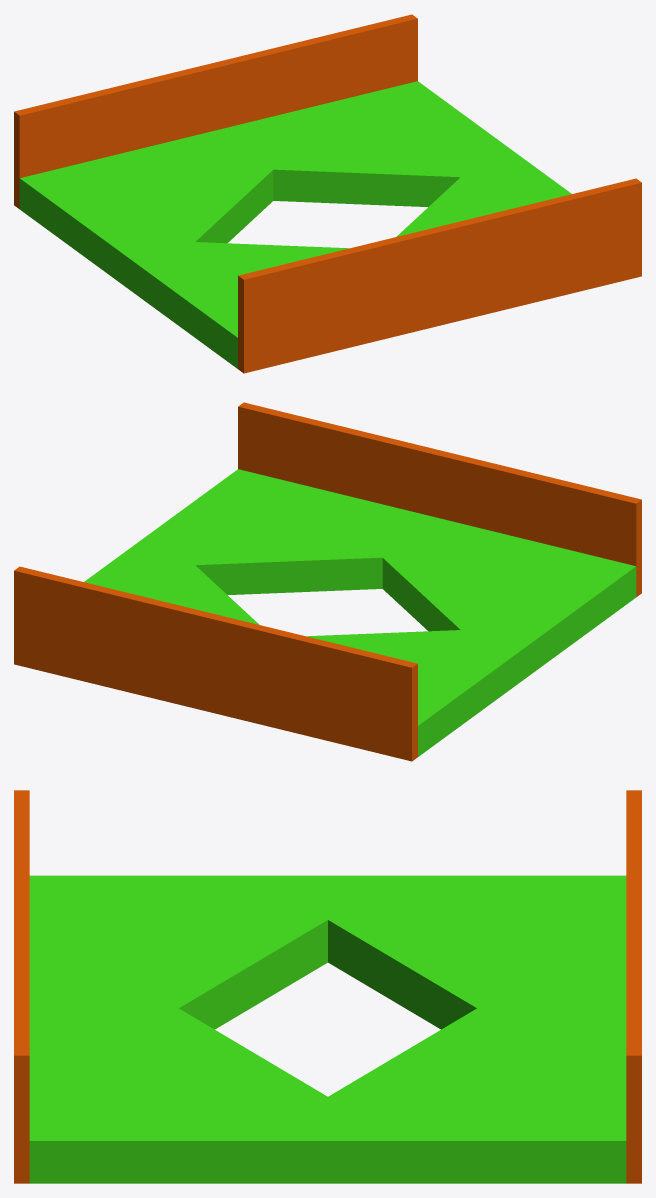
File: hole_wide.fbx
3 views of the same model, one above another, from view 1: azimuth 30°, elevation 25°; view 2: azimuth 150°, elevation 25°; view 3: azimuth 270°, elevation 25° (orthographic). The views are drawn at different scales.
Parts seen in each view (by area): view 1: Plane; view 2: Plane; view 3: Plane.
Boxes of the visible parts, x1=… form: Plane: x1=14, y1=14, x2=641, y2=373; Plane: x1=14, y1=402, x2=641, y2=761; Plane: x1=14, y1=790, x2=641, y2=1183.
Bounding box in the file's own units: 400 × 90 × 400.
